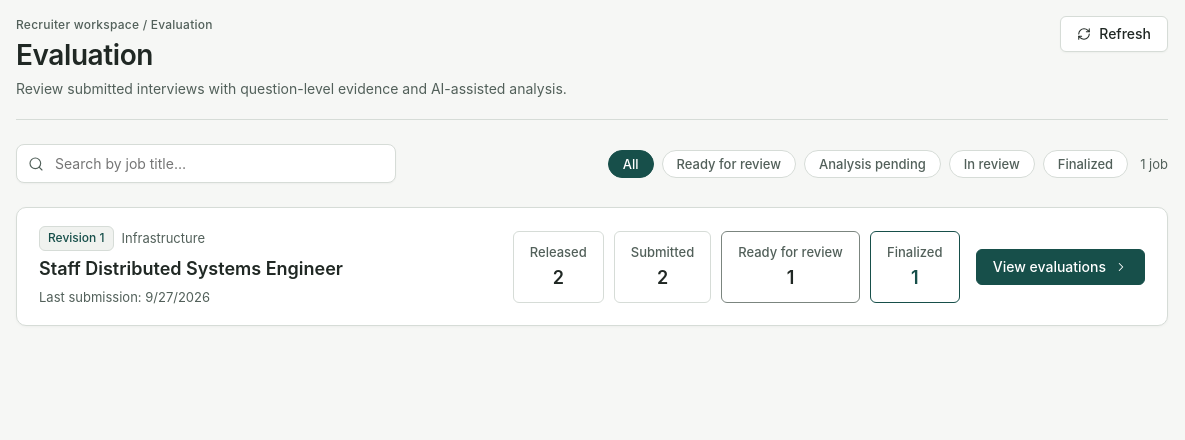
Test case: Phase 4C.4: Recruiter Evaluation Workspace & Candidate Feedback › renders Candidate session list for selected Job revision with separate resume match and interview performance
Click the button "View evaluations" at (1060, 267), box [976, 249, 1145, 285]
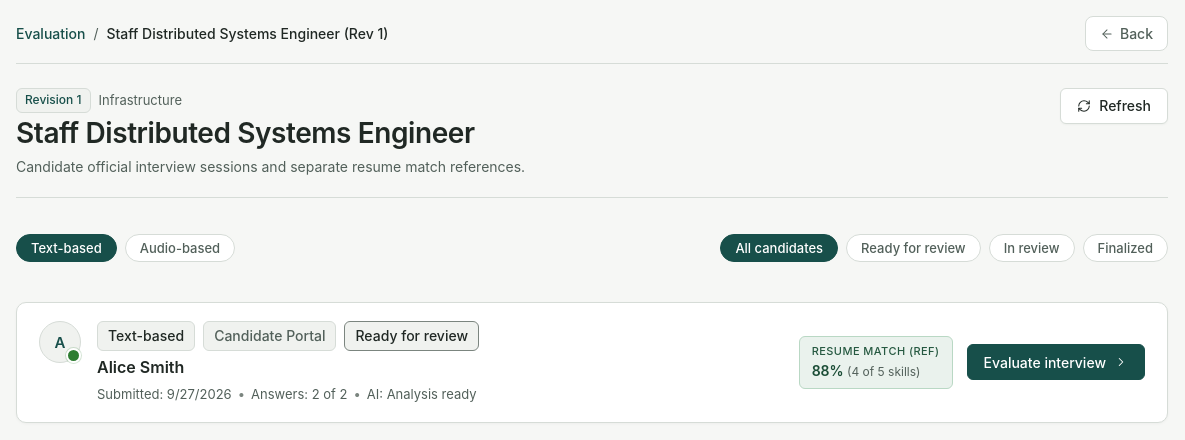
Expected: the heading "Alice Smith" is shown, [97, 357, 184, 377]
Expected: the text "88%" is shown, [812, 362, 844, 379]
Expected: the text "(4 of 5 skills)" is shown, [844, 364, 920, 379]
